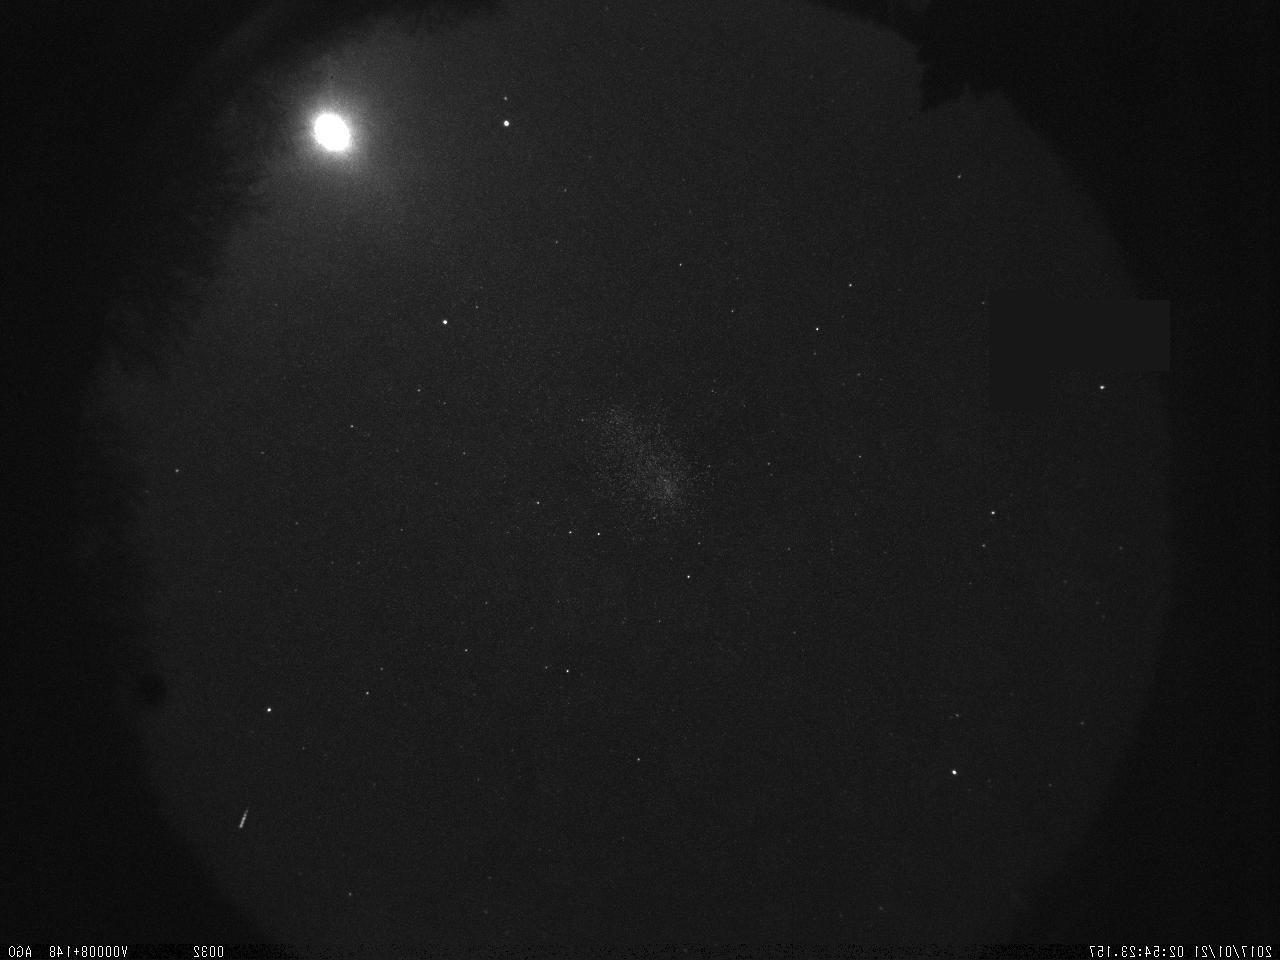meteor: (232, 803, 254, 835)
